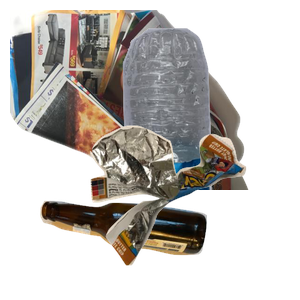glass: (37, 198, 236, 300)
paper: (10, 10, 250, 190)
plastic: (111, 26, 300, 206)
trash: (88, 123, 300, 300)
